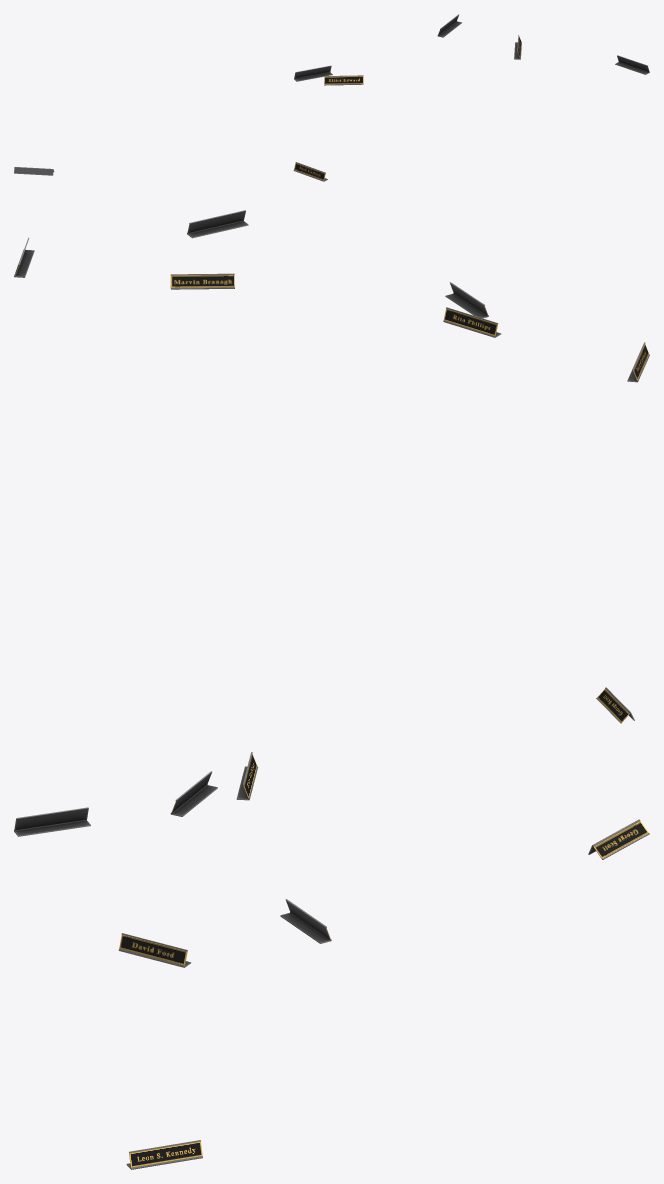
The model's file is 042_nameplate01a.fbx.
The picture shows the model from 3 angles, top to bottom: view 1: azimuth 30°, elevation 25°; view 2: azimuth 150°, elevation 25°; view 3: azimuth 270°, elevation 25°; orthographic projection. The views are drawn at different scales.
Visible parts, largest first — view 1: LOD_1_Group_0_Sub_1__sm36_042_Nameplate01A_A_Mat; view 2: LOD_1_Group_0_Sub_1__sm36_042_Nameplate01A_A_Mat; view 3: LOD_1_Group_0_Sub_1__sm36_042_Nameplate01A_A_Mat.
Part boxes in pixels (<box>): LOD_1_Group_0_Sub_1__sm36_042_Nameplate01A_A_Mat: <box>14,14,649,181</box>; LOD_1_Group_0_Sub_1__sm36_042_Nameplate01A_A_Mat: <box>14,210,649,723</box>; LOD_1_Group_0_Sub_1__sm36_042_Nameplate01A_A_Mat: <box>14,752,649,1169</box>.
Size of the model in its own units: 5.52 by 1.35 by 3.08.
